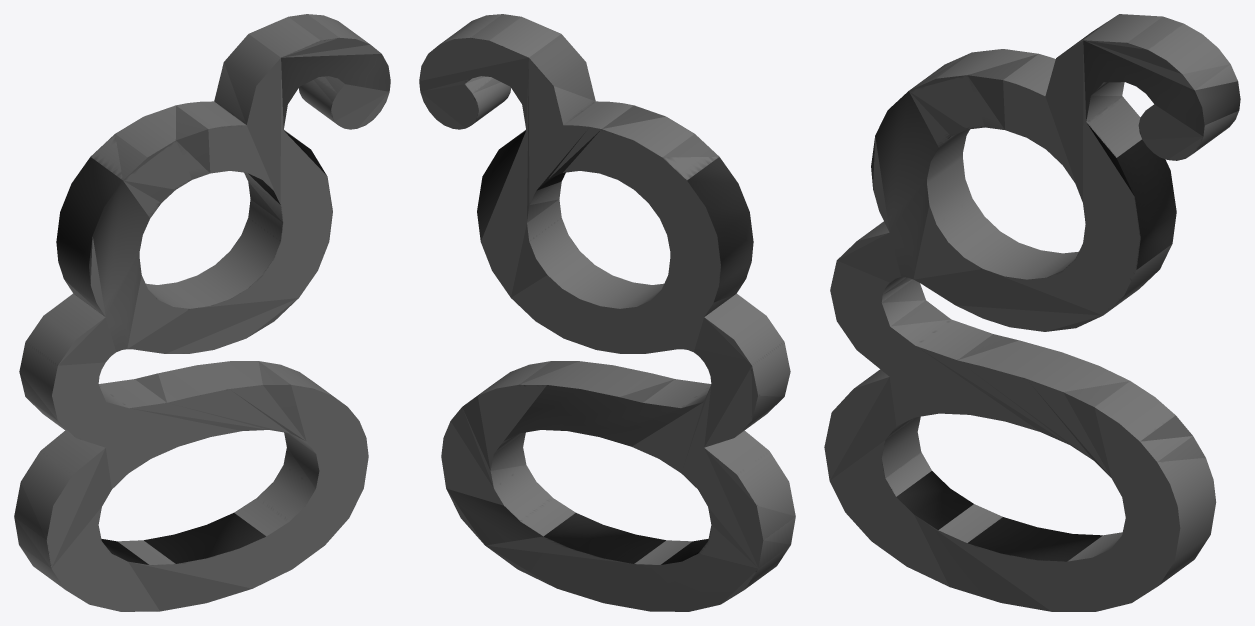
3 views of the same model, side by side, from view 1: azimuth 30°, elevation 25°; view 2: azimuth 150°, elevation 25°; view 3: azimuth 330°, elevation 25° (orthographic). The views are drawn at different scales.
Parts seen in each view (by area): view 1: node_id5; view 2: node_id5; view 3: node_id5.
Boxes of the visible parts, <box> form: node_id5: <box>14,14,390,611</box>; node_id5: <box>419,14,795,611</box>; node_id5: <box>824,14,1240,611</box>.
Size of the model in its own units: 0.3448 by 0.512 by 0.0564.
1 material, 1 textured.
